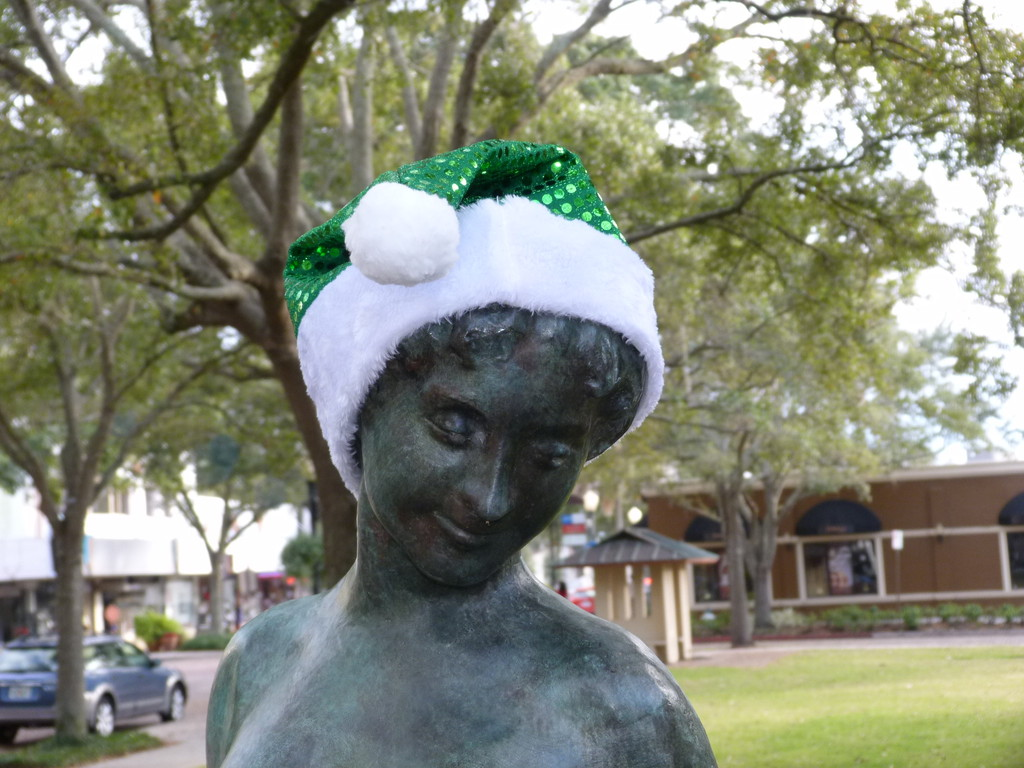Car: (0, 634, 190, 748)
